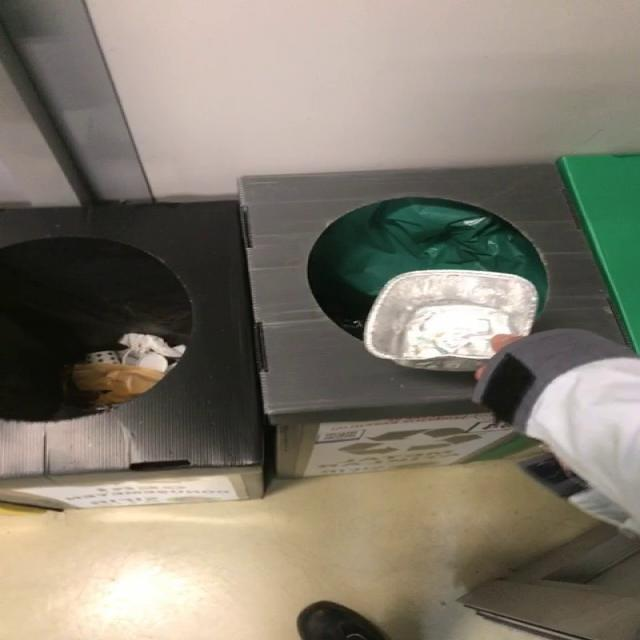Bin: (240, 165, 624, 476)
Metal: (363, 270, 539, 372)
